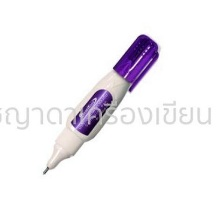correction_fluid: (39, 30, 162, 177)
